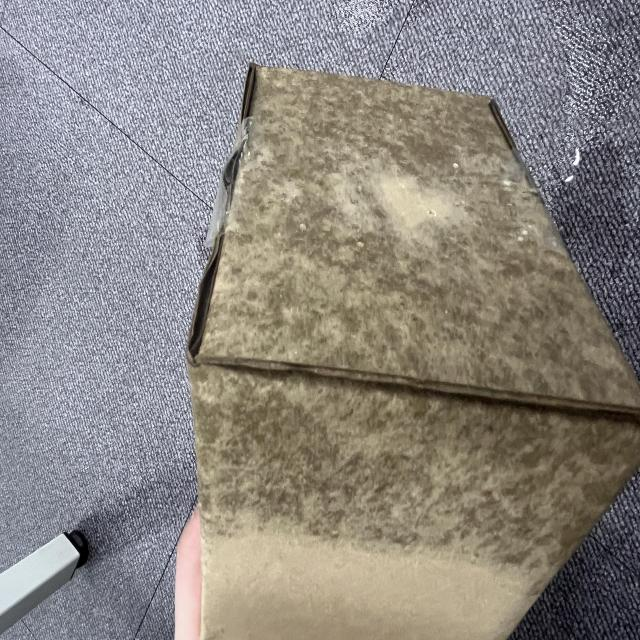wet: (6, 37, 452, 585)
